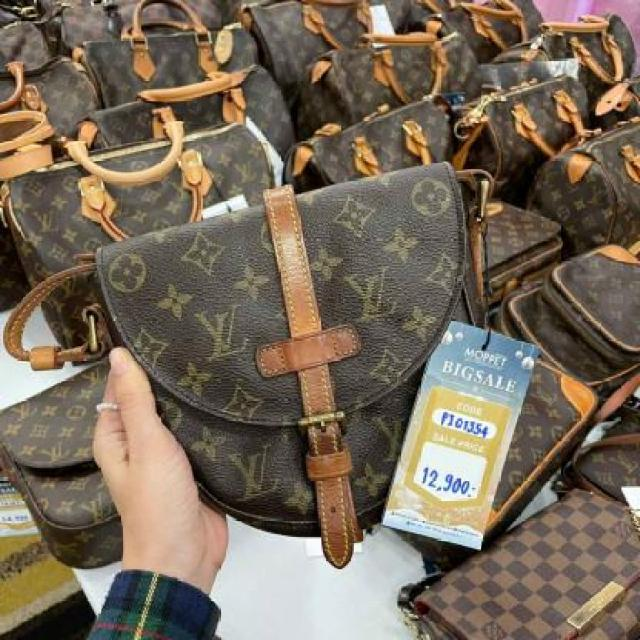Bag: (48, 142, 526, 613)
